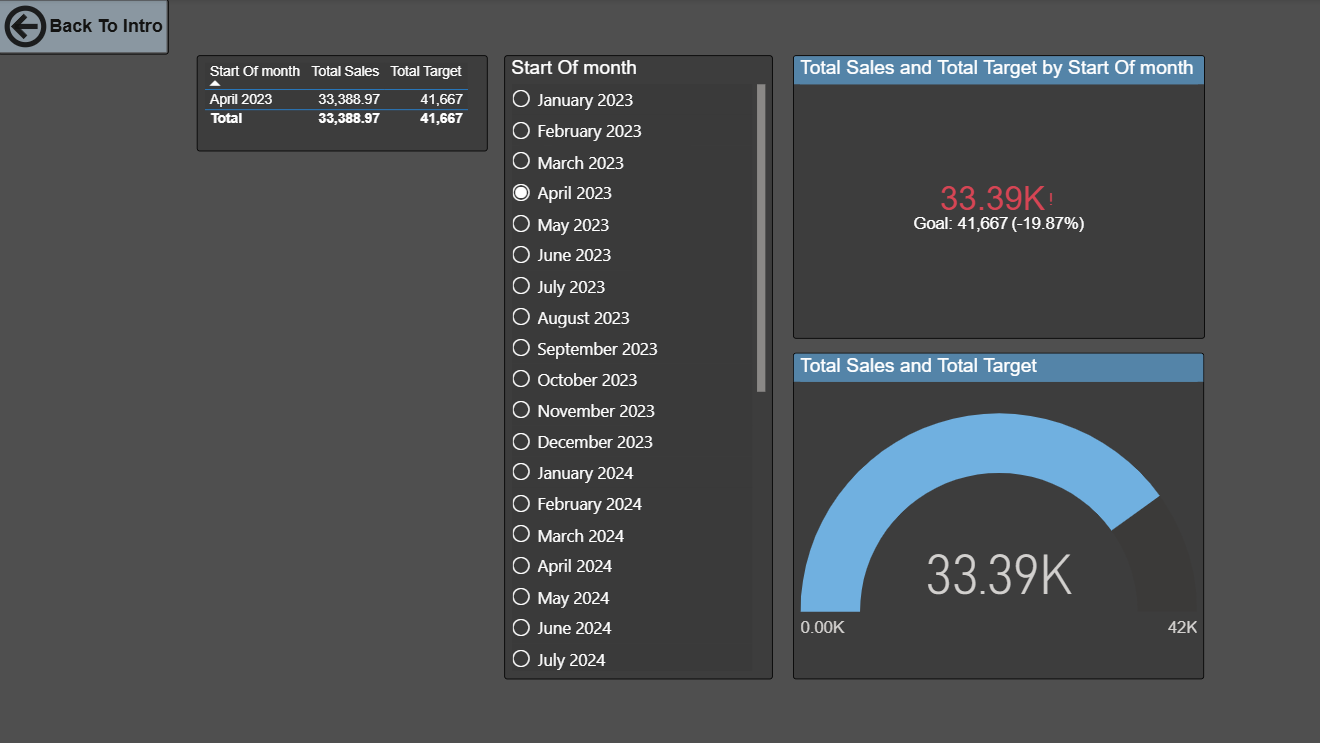

The page's visual inventory and layout, read from the dashboard file:
{"tool":"powerbi","page":{"name":"Gaudge and KPI","canvas":[1280,720],"ordinal":6},"visuals":[{"type":"kpi","fields":{"Indicator":["Measures Table.Total Sales"],"TrendLine":["SalesTrans.Start Of month"],"Goal":["Measures Table.Total Target"]},"box":[766.7,53.8,397.4,273.9],"z":0},{"type":"gauge","fields":{"Y":["Measures Table.Total Sales"],"MaxValue":["Measures Table.Total Target"]},"box":[767.3,341.4,396.9,314.9],"z":1000},{"type":"tableEx","fields":{"Values":["SalesTrans.Start Of month","Measures Table.Total Sales","Measures Table.Total Target"]},"box":[191.8,54.3,281.1,92.9],"z":2000},{"type":"listSlicer","fields":{"Values":["SalesTrans.Start Of month"]},"box":[488.6,54.3,259.4,602],"z":3000},{"type":"actionButton","box":[0,0,165.1,53.8],"z":4000}]}

Visuals, with their boxes in screenshot pixels (x1, y1, x2, y2), scaled from the page's 1280x720 canvas onto the 1320x743 screenshot:
kpi - Measures Table.Total Sales x SalesTrans.Start Of month: 791,56,1200,338
gauge - Measures Table.Total Sales x Measures Table.Total Target: 791,352,1201,677
tableEx - SalesTrans.Start Of month x Measures Table.Total Sales: 198,56,488,152
listSlicer - SalesTrans.Start Of month: 504,56,771,677
actionButton: 0,0,170,56
